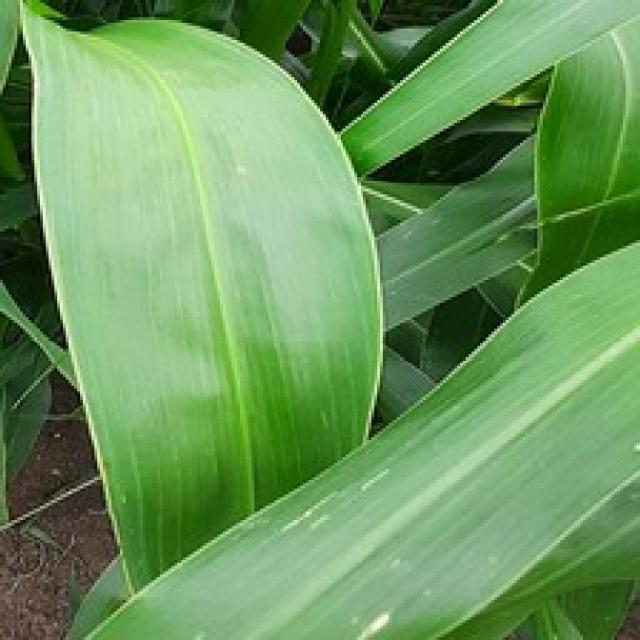Corn: (0, 0, 637, 637), (334, 0, 637, 177), (514, 0, 637, 309), (0, 0, 23, 186)
